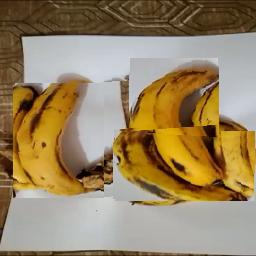Banana Semifresh: (14, 83, 132, 198), (131, 58, 220, 186), (115, 131, 256, 201), (105, 76, 159, 201), (47, 68, 51, 69)
